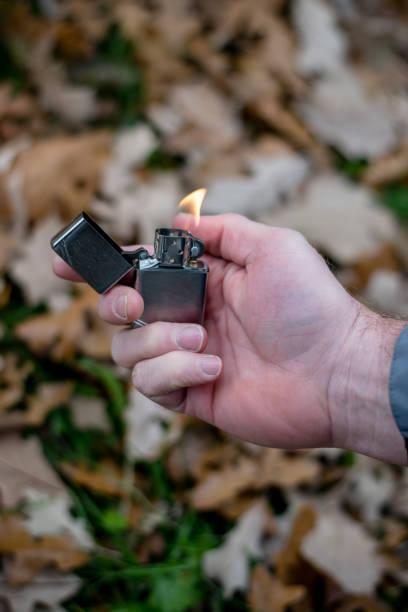Fire: (169, 184, 213, 228)
